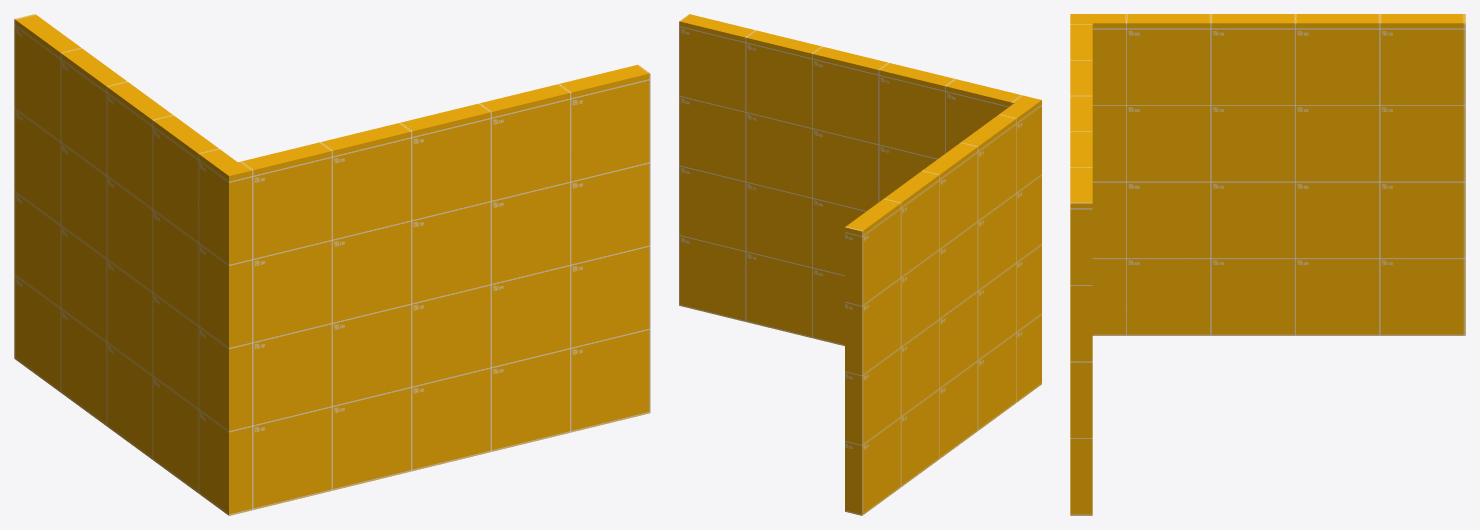
File: WallCorner.fbx
3 renders of one model, left to right at view 1: azimuth 30°, elevation 25°; view 2: azimuth 150°, elevation 25°; view 3: azimuth 270°, elevation 25°, orthographic. The views are drawn at different scales.
Visible parts, largest first — view 1: WallCorner; view 2: WallCorner; view 3: WallCorner.
Boxes of the visible parts, box(x1,y1,x2,y2) form: WallCorner: box(14, 14, 650, 515); WallCorner: box(679, 14, 1041, 515); WallCorner: box(1070, 14, 1465, 515).
Size of the model in its own units: 27.33 by 21.06 by 24.11.
